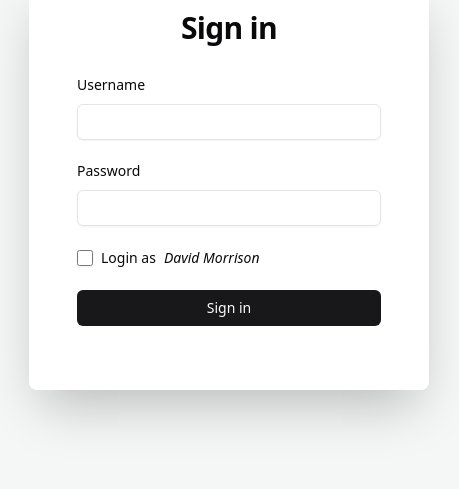
Test: LoginPage › should display error message when login fails
This screenshot has width=459, height=489.
Type "random_name" into the field labelled "Username".
click(229, 122); type("random_name")  # box [77,104,381,140]
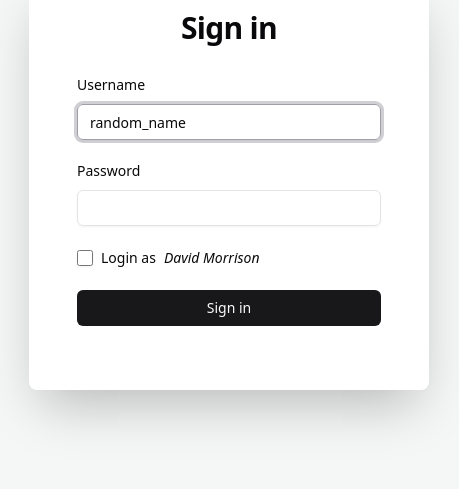
Type "random_password" into the password field labelled "Password".
click(229, 208); type("random_password")  # box [77,190,381,226]
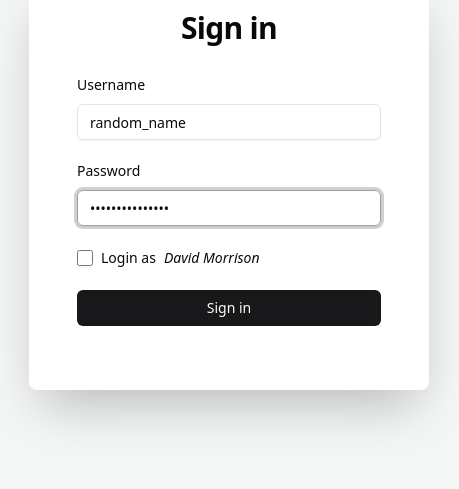
Click the button "Sign in".
click(229, 308)  # box [77,290,381,326]
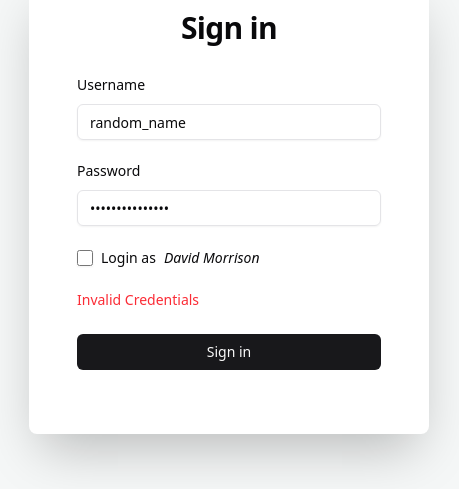
Result: the message reads "Invalid Credentials" at [77,290,199,309]
